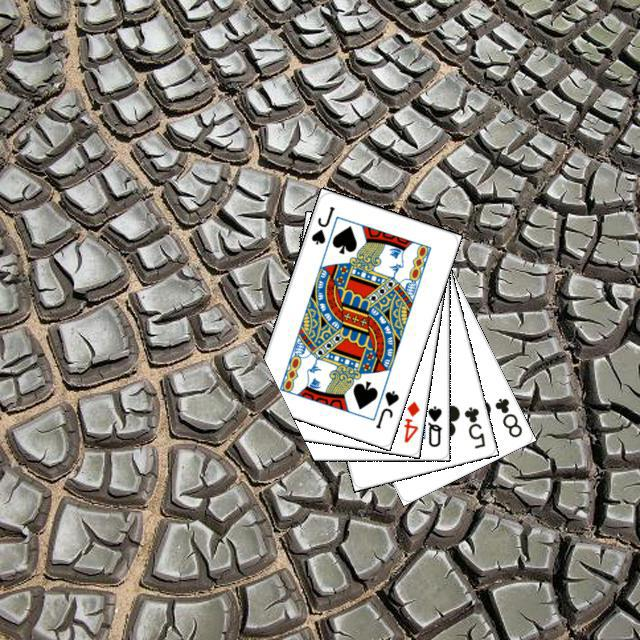4d: (399, 396, 421, 444)
5c: (459, 402, 487, 450)
8c: (490, 393, 524, 439)
Js: (306, 201, 336, 246), (371, 386, 401, 430)
Qs: (423, 401, 444, 448)
